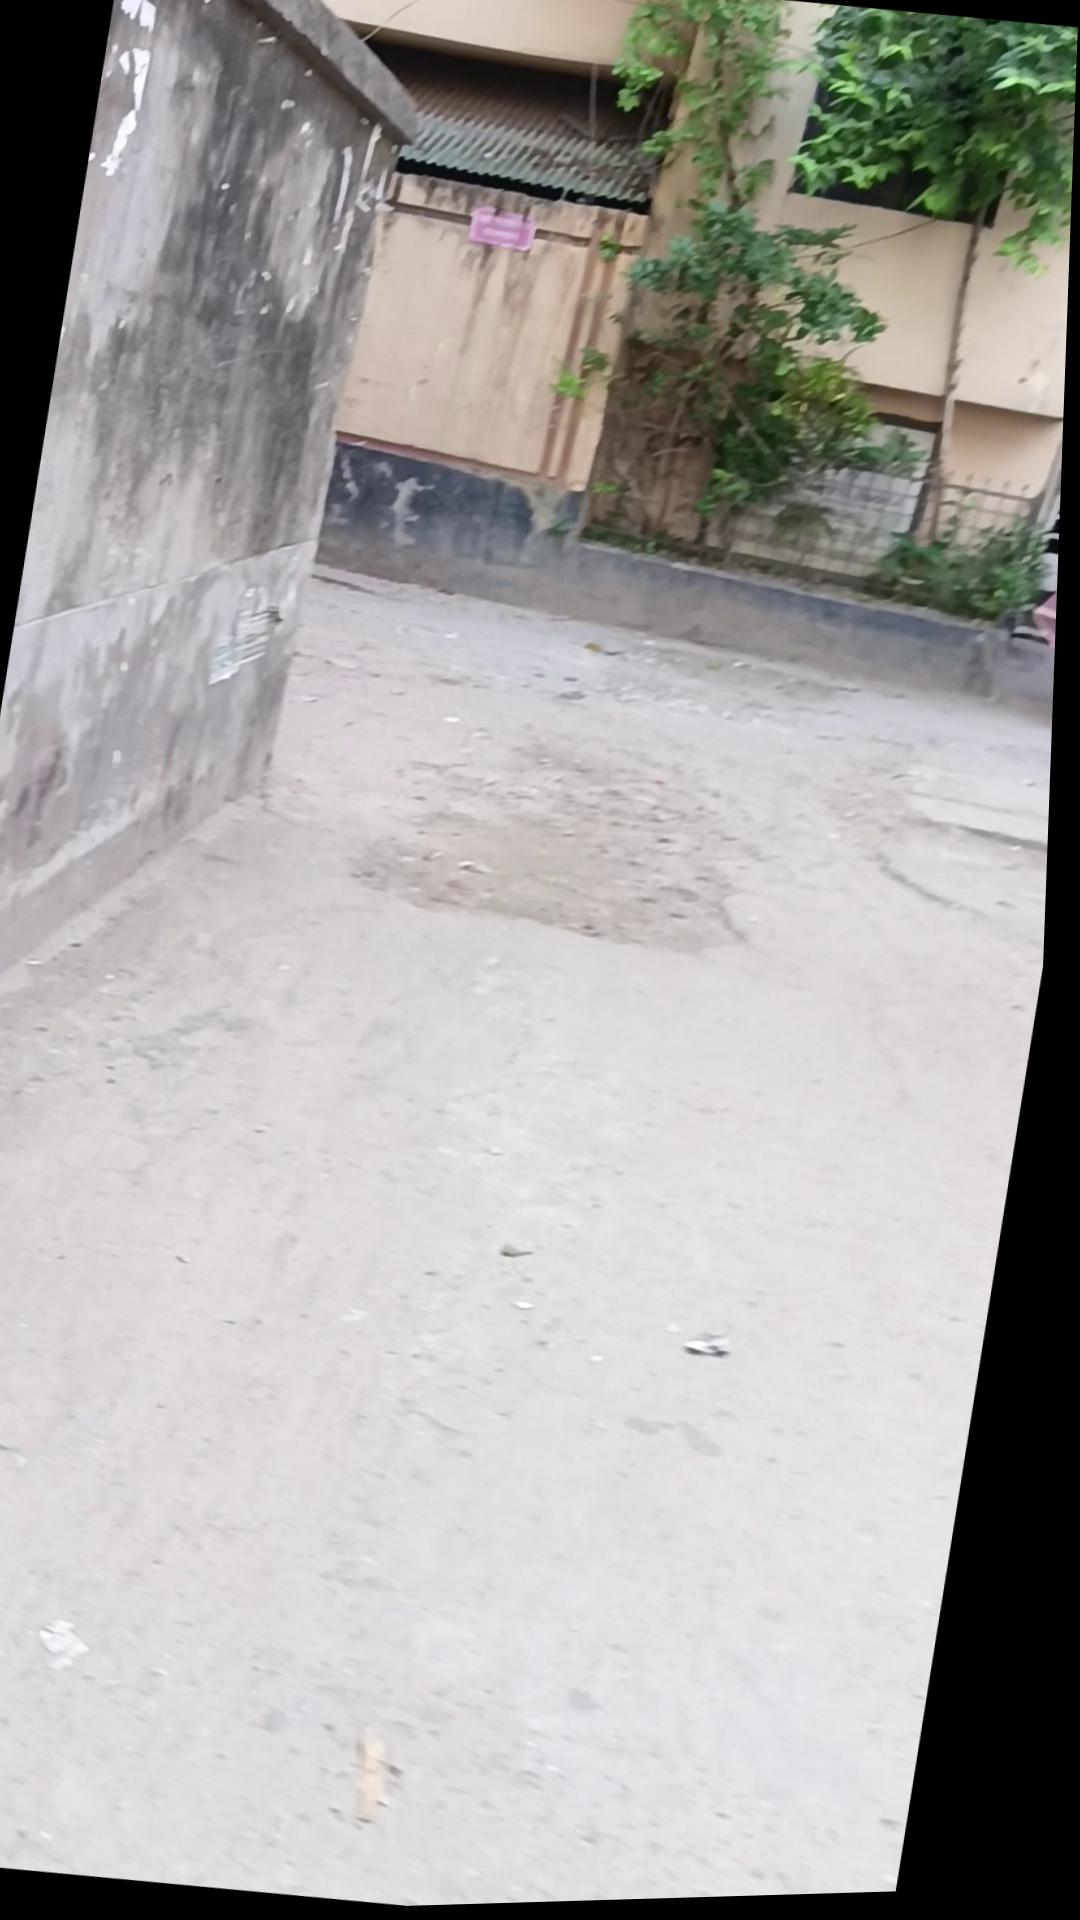Broken-road: (0, 506, 1064, 1920)
Crosswalk: (302, 419, 1067, 741)
Stuck-water: (464, 204, 541, 257)
Traffic-cone: (568, 0, 840, 570)
